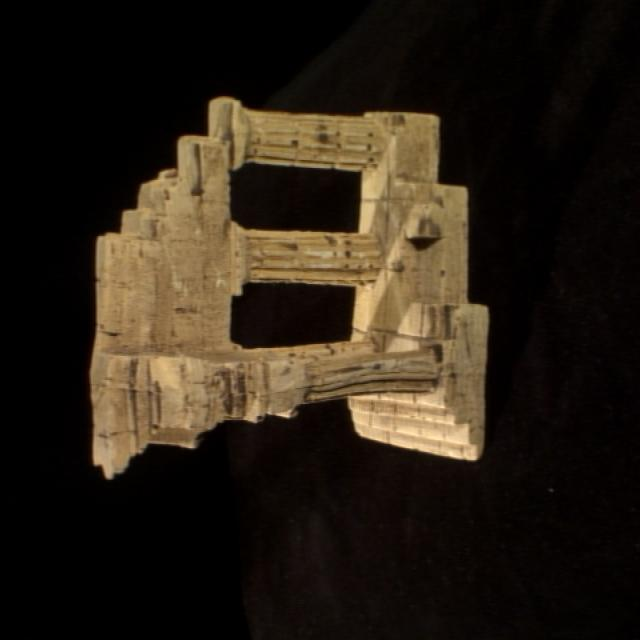Instance-Segmentation: (90, 99, 487, 476)
